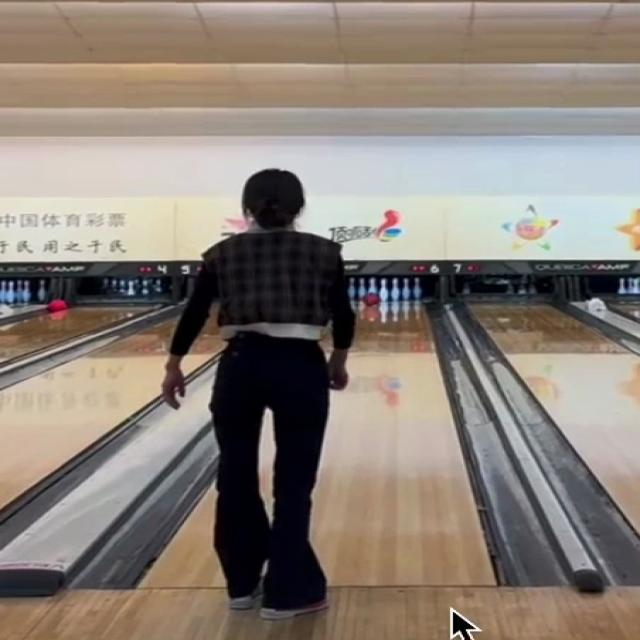alley: (312, 303, 493, 585), (142, 488, 221, 589)
balls: (364, 293, 379, 307)
bottle: (347, 275, 423, 304)
